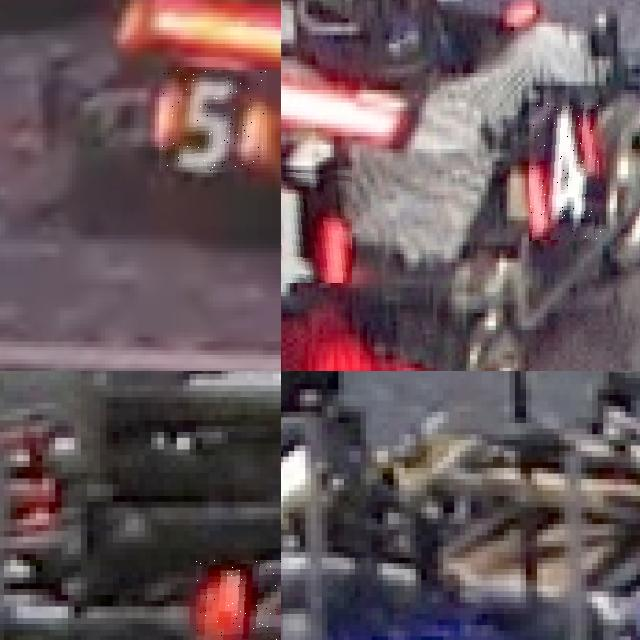R2: (196, 559, 281, 640)
R4: (529, 103, 602, 241), (281, 165, 352, 283)
R5: (159, 70, 267, 172)
